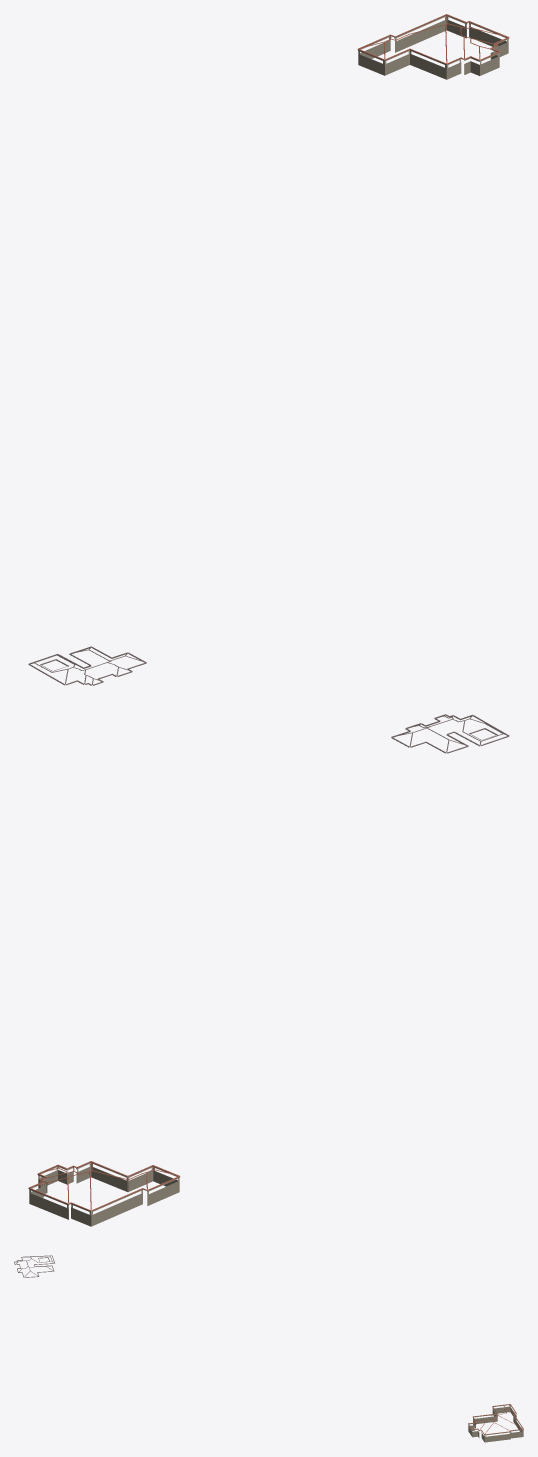
3 views of the same model, one above another, from view 1: azimuth 30°, elevation 25°; view 2: azimuth 210°, elevation 25°; view 3: azimuth 270°, elevation 25° (orthographic). The views are drawn at different scales.
Parts seen in each view (by area): view 1: detail; view 2: detail; view 3: detail.
Part boxes in pixels (left/top/right/bottom): detail: left=28, top=14, right=509, bottom=685; detail: left=28, top=714, right=509, bottom=1226; detail: left=14, top=1255, right=523, bottom=1442.
Bounding box in the file's own units: 310 × 33.57 × 300.
